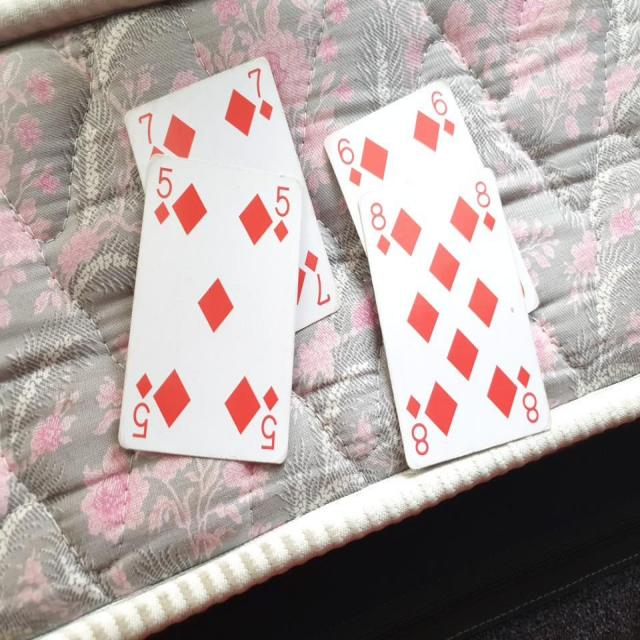5 Diamonds: (112, 150, 301, 465)
6 Diamonds: (324, 79, 539, 312)
7 Diamonds: (122, 57, 341, 332)
8 Diamonds: (358, 166, 554, 470)
